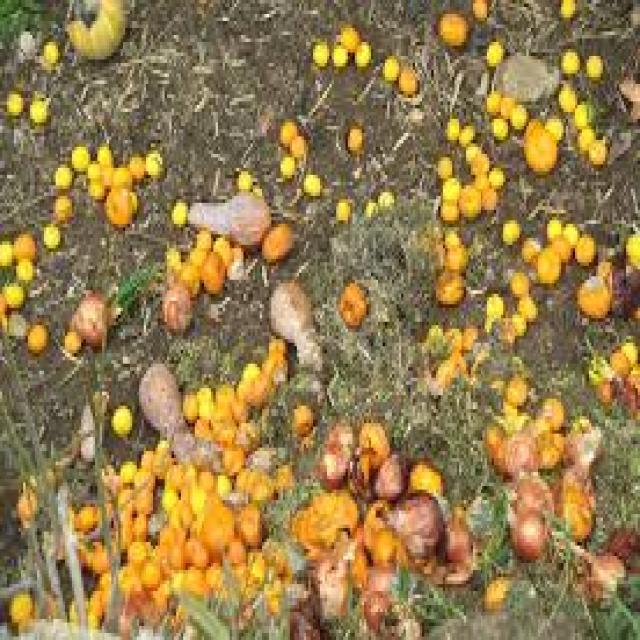food_waste: (102, 339, 290, 616), (292, 423, 468, 584), (485, 357, 598, 549), (485, 217, 638, 343), (72, 143, 160, 224), (436, 119, 503, 224), (584, 322, 638, 413), (70, 504, 109, 623), (441, 150, 496, 217), (70, 0, 125, 56), (431, 325, 482, 381), (0, 231, 35, 308), (519, 115, 561, 171), (591, 535, 631, 584), (438, 231, 466, 301), (492, 94, 522, 133), (531, 122, 557, 164), (582, 129, 605, 161), (283, 119, 297, 143)
